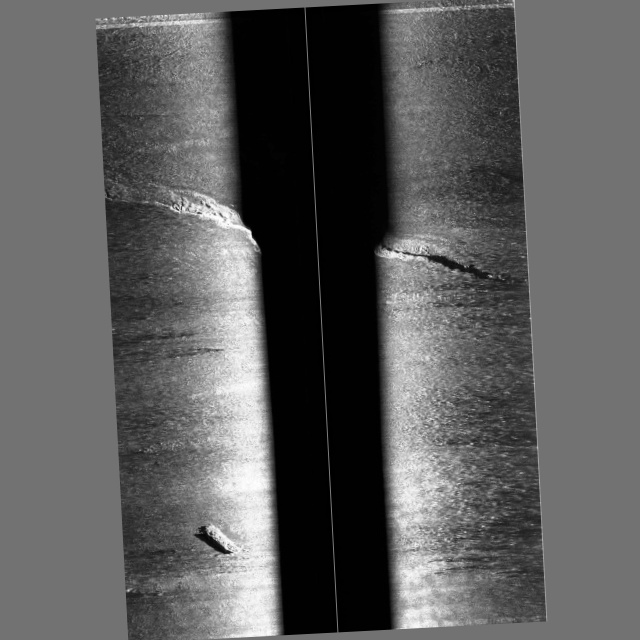Shipwreck: (203, 522, 249, 557)
